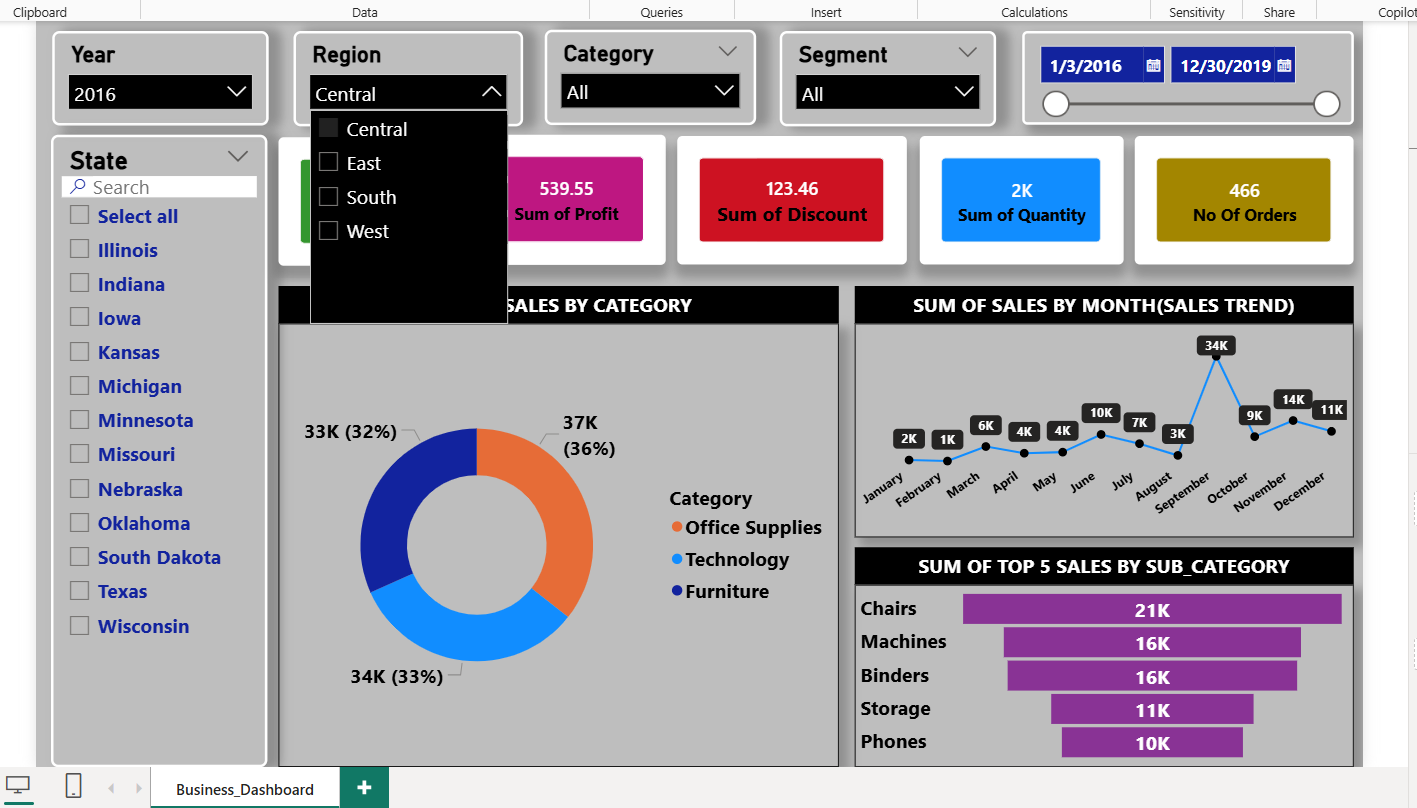

What the dashboard file says about the page in this screenshot:
{"tool":"powerbi","page":{"name":"Business_Dashboard","canvas":[1280,720],"ordinal":0},"visuals":[{"type":"slicer","fields":{"Values":["DATA.Order_Date.Variation.Date Hierarchy.Year"]},"box":[16.2,10,208.8,91.2],"z":0},{"type":"slicer","fields":{"Values":["DATA.Region"]},"box":[248.5,9.7,222,91.7],"z":1000},{"type":"slicer","fields":{"Values":["DATA.Category"]},"box":[491,8.4,203.9,91.7],"z":2000},{"type":"slicer","fields":{"Values":["DATA.Segment"]},"box":[717.8,9.7,208.7,91.7],"z":3000},{"type":"slicer","fields":{"Values":["DATA.State"]},"box":[15,110,208.8,610],"z":4000},{"type":"slicer","fields":{"Values":["DATA.Order_Date"]},"box":[951.9,9.7,319.7,90.5],"z":5000},{"type":"cardVisual","fields":{"Data":["Sum(DATA.Sales)"]},"box":[234,112.2,172.5,124.3],"z":6000},{"type":"cardVisual","fields":{"Data":["Sum(DATA.Profit)"]},"box":[415,109.8,193,125.5],"z":7000},{"type":"cardVisual","fields":{"Data":["Sum(DATA.Discount)"]},"box":[618.9,111,222,124.3],"z":8000},{"type":"cardVisual","fields":{"Data":["Sum(DATA.Quantity)"]},"box":[853,111,196.6,124.3],"z":9000},{"type":"cardVisual","fields":{"Data":["CountNonNull(DATA.Order ID)"]},"box":[1060.5,111,211.1,124.3],"z":10000},{"type":"lineChart","fields":{"Category":["DATA.Order_Date.Variation.Date Hierarchy.Month"],"Y":["Sum(DATA.Sales)"]},"box":[790.2,292,481.4,206.3],"z":11000},{"type":"textbox","box":[790.2,255.8,481.4,36.2],"z":12000},{"type":"funnel","fields":{"Category":["DATA.Sub_Category"],"Y":["Sum(DATA.Sales)"]},"box":[790.2,544.1,481.4,176.1],"z":13000},{"type":"textbox","box":[790.2,507.9,481.4,36.2],"z":14000},{"type":"donutChart","fields":{"Category":["DATA.Category"],"Y":["Sum(DATA.Sales)"]},"box":[234,292,540.5,428.3],"z":14001},{"type":"textbox","box":[234,255.8,540.5,36.2],"z":14002}]}

Visuals, with their boxes in screenshot pixels (x1, y1, x2, y2):
slicer - DATA.Order_Date.Variation.Date Hierarchy.Year: rect(36, 22, 255, 118)
slicer - DATA.Region: rect(280, 21, 514, 118)
slicer - DATA.Category: rect(535, 20, 750, 116)
slicer - DATA.Segment: rect(774, 21, 994, 118)
slicer - DATA.State: rect(34, 127, 254, 769)
slicer - DATA.Order_Date: rect(1021, 21, 1357, 117)
cardVisual - Sum(DATA.Sales): rect(265, 129, 447, 260)
cardVisual - Sum(DATA.Profit): rect(455, 127, 659, 259)
cardVisual - Sum(DATA.Discount): rect(670, 128, 904, 259)
cardVisual - Sum(DATA.Quantity): rect(917, 128, 1124, 259)
cardVisual - CountNonNull(DATA.Order ID): rect(1135, 128, 1357, 259)
lineChart - DATA.Order_Date.Variation.Date Hierarchy.Month x Sum(DATA.Sales): rect(851, 319, 1357, 536)
textbox: rect(851, 280, 1357, 319)
funnel - DATA.Sub_Category x Sum(DATA.Sales): rect(851, 584, 1357, 769)
textbox: rect(851, 546, 1357, 584)
donutChart - DATA.Category x Sum(DATA.Sales): rect(265, 319, 834, 770)
textbox: rect(265, 280, 834, 319)
